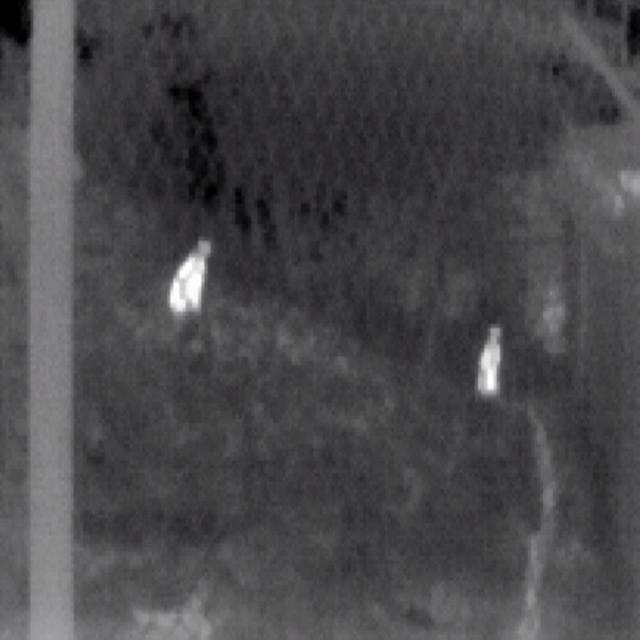cheetah: (170, 239, 212, 313), (476, 325, 503, 395)
